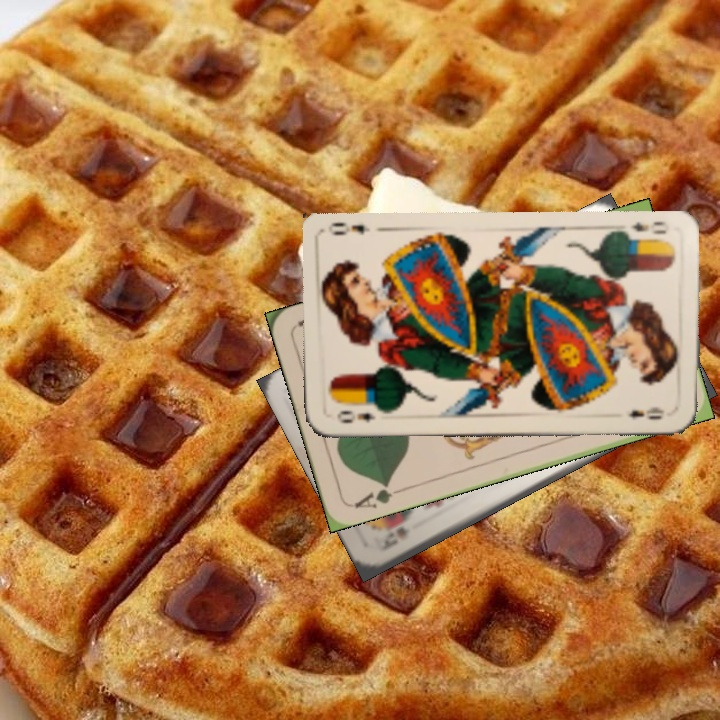EO: (333, 406, 378, 426), (626, 218, 668, 237)
GA: (350, 478, 406, 512)
SK: (376, 522, 411, 554)
